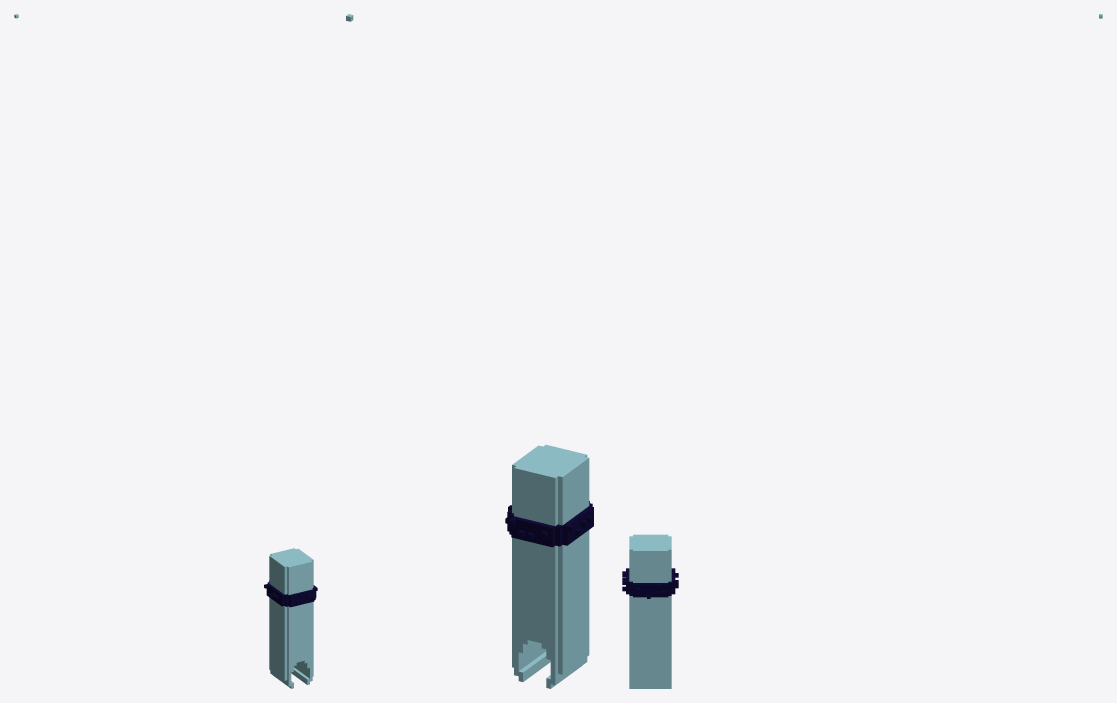
File: SM_ForgeGolem_Right_Lower_Arm.fbx
The picture shows the model from 3 angles, left to right: view 1: azimuth 30°, elevation 25°; view 2: azimuth 150°, elevation 25°; view 3: azimuth 270°, elevation 25°; orthographic projection. The views are drawn at different scales.
Visible parts, largest first — view 1: SM_ForgeGolem_Right_Lower_Arm; view 2: SM_ForgeGolem_Right_Lower_Arm; view 3: SM_ForgeGolem_Right_Lower_Arm.
Boxes of the visible parts, x1,y1,x2,y2 form: SM_ForgeGolem_Right_Lower_Arm: [14, 14, 317, 688]; SM_ForgeGolem_Right_Lower_Arm: [346, 14, 593, 688]; SM_ForgeGolem_Right_Lower_Arm: [622, 14, 1102, 688].
Bounding box in the file's own units: 380 × 1950 × 1360.
